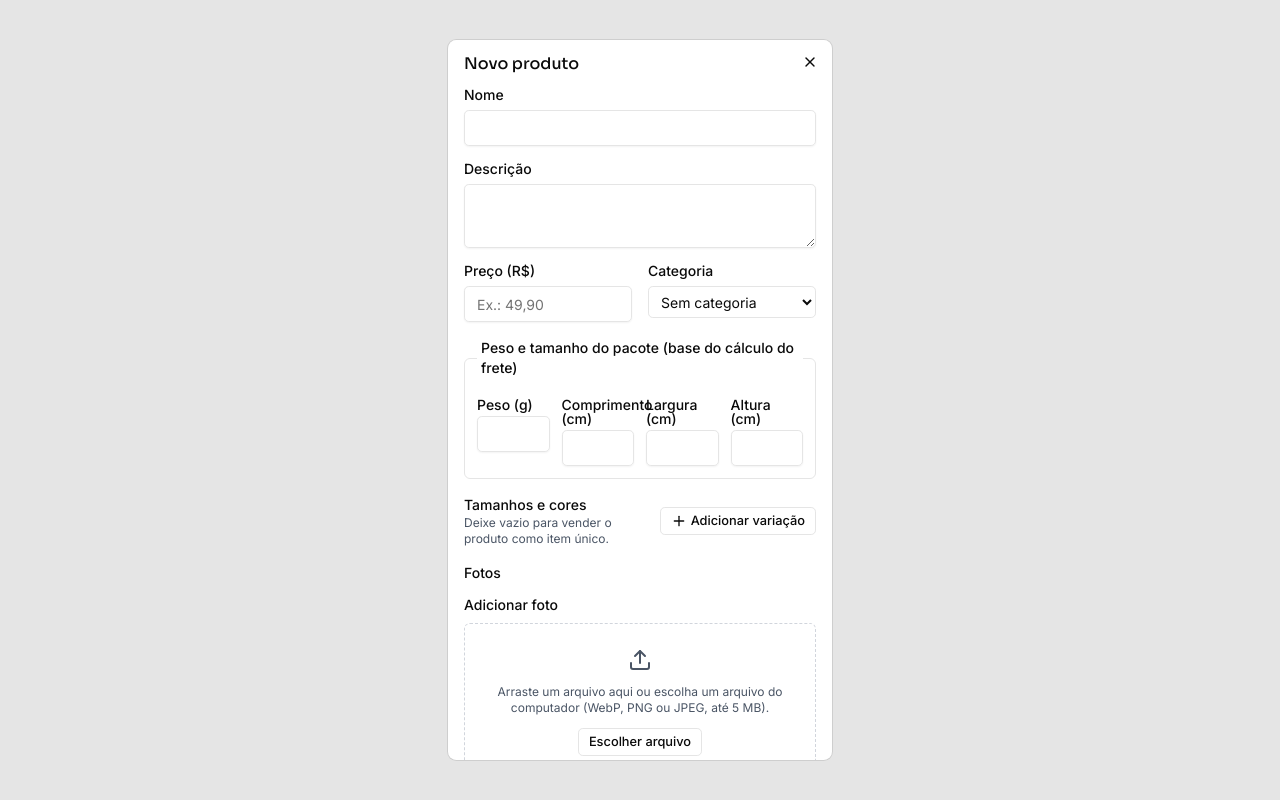
Test: StoreProductDialog › mostra a mensagem de erro do servidor e mantém o diálogo aberto
Type "Camiseta" into the field labelled "Nome" at (640, 128), box [464,110,816,146]
Type "49,90" into the field labelled "Preço (R$)" at (548, 304), box [464,286,632,322]
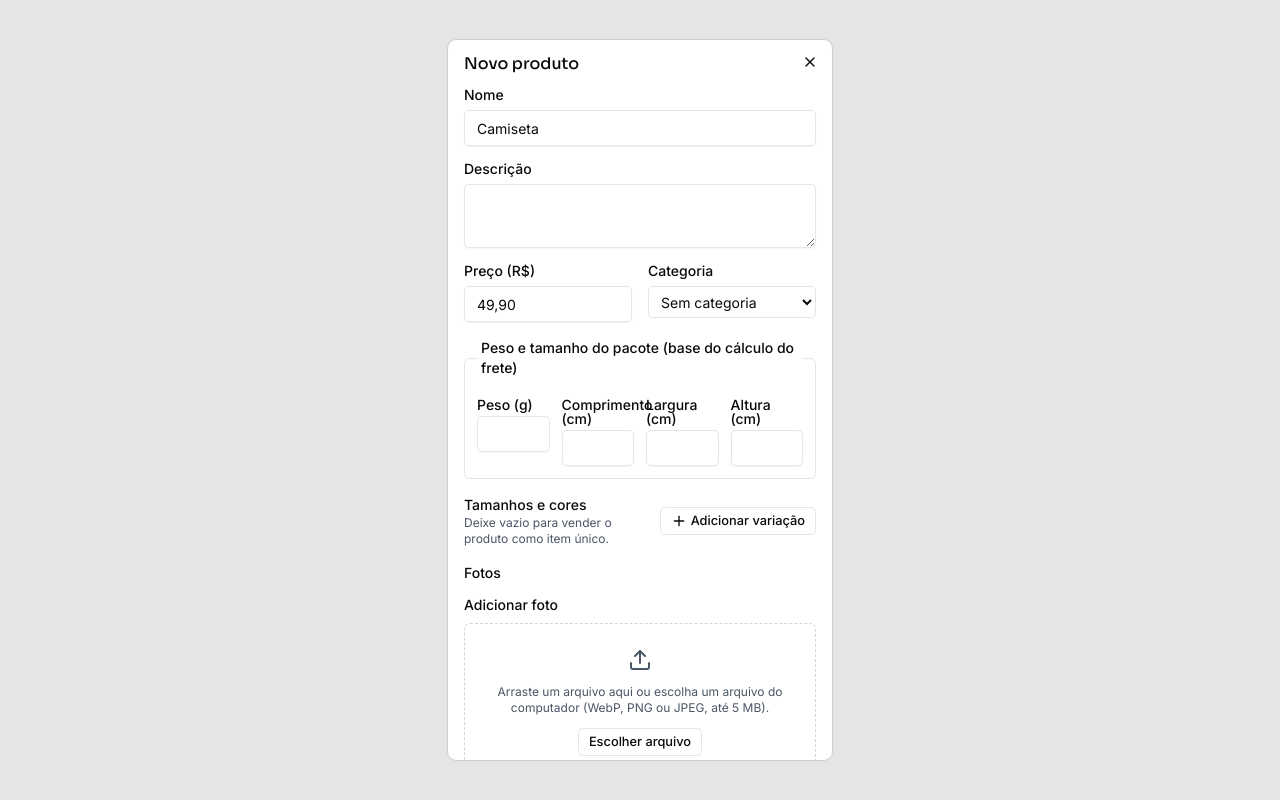
Type "200" into the field labelled "Peso (g)" at (513, 434), box [477,416,550,452]
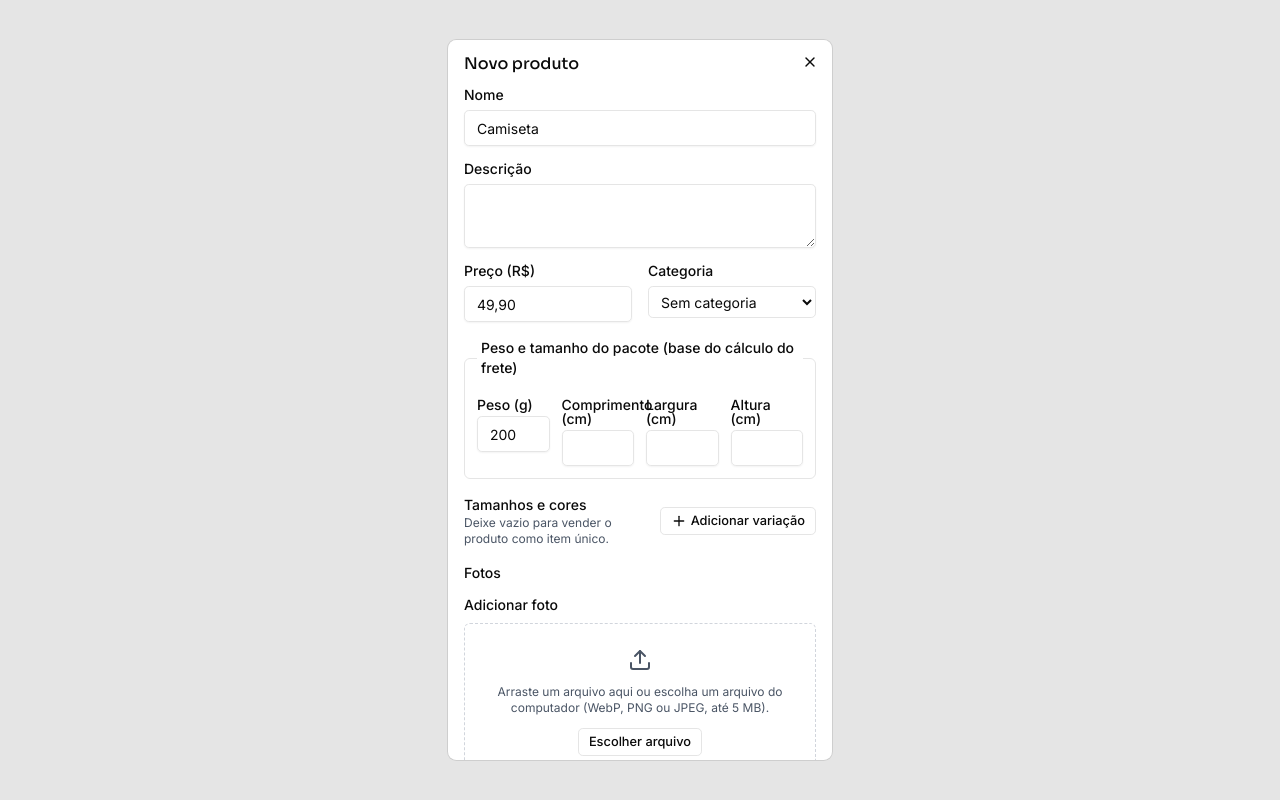
Type "30" into the field labelled "Comprimento (cm)" at (598, 448), box [562,430,634,466]
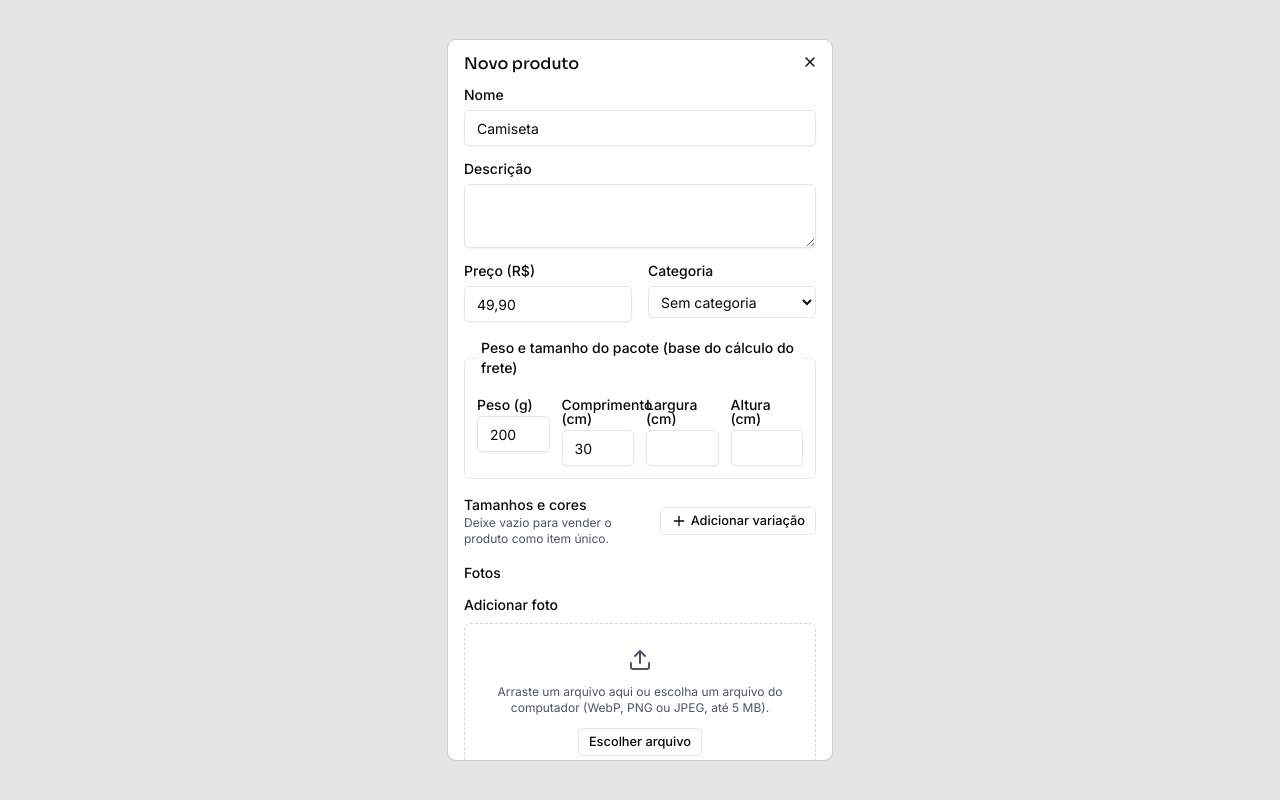
Type "25" into the field labelled "Largura (cm)" at (682, 448), box [646,430,718,466]
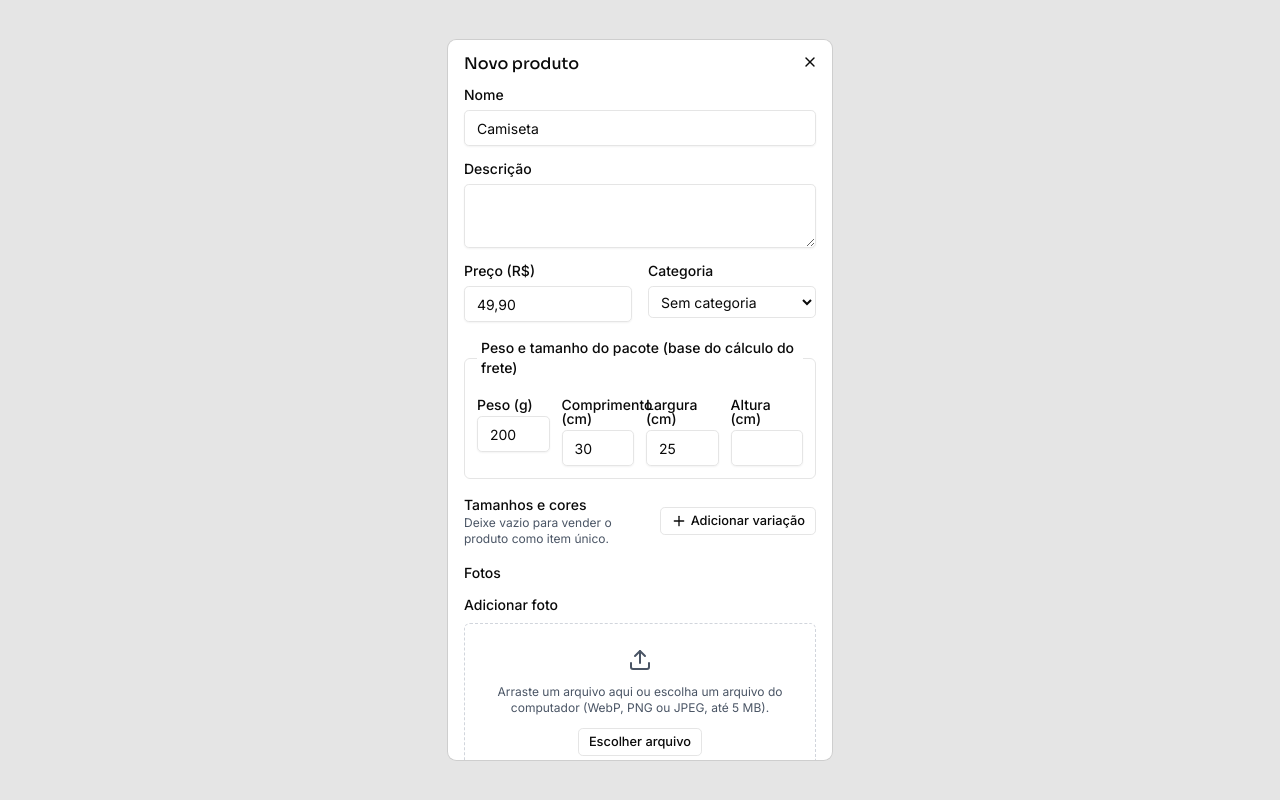
Type "3" into the field labelled "Altura (cm)" at (767, 448), box [730,430,803,466]
(page scrolled)
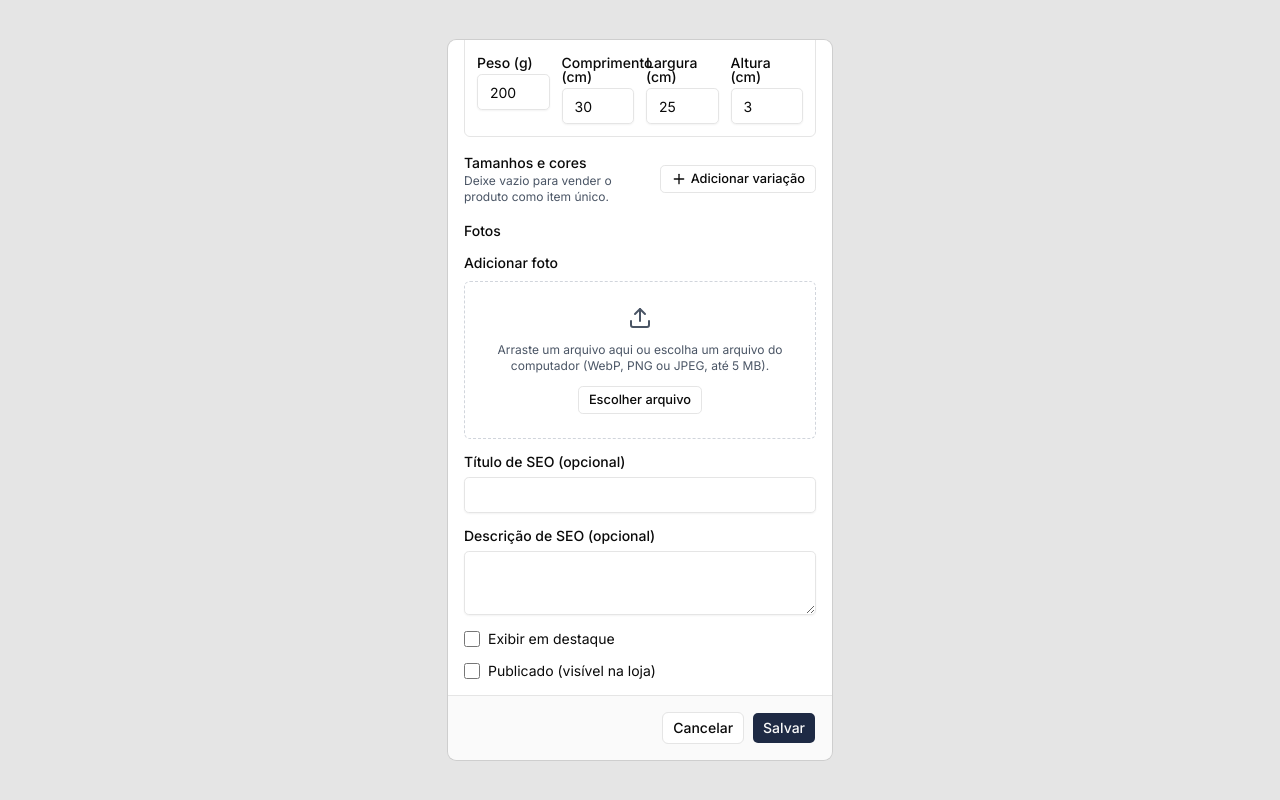
Click the button "Salvar" at (784, 728), box [752,712,816,744]
(page scrolled)
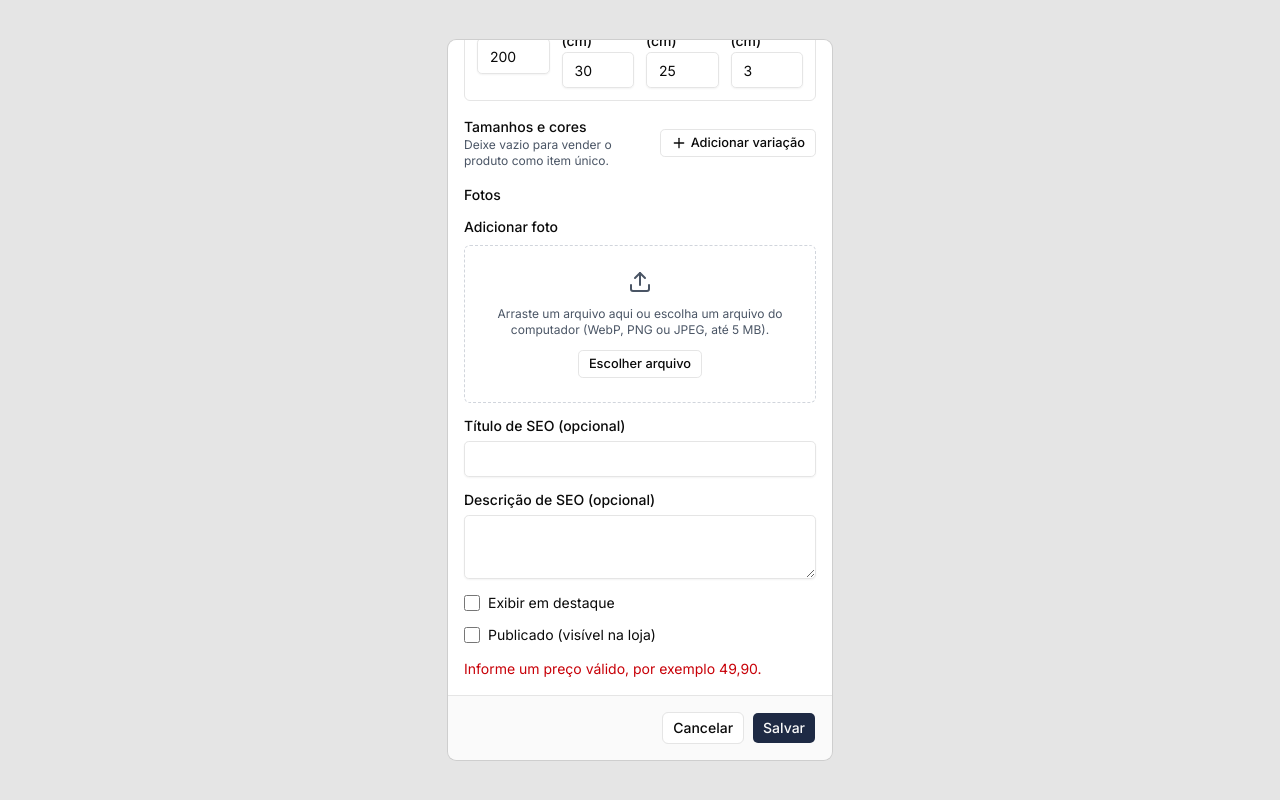
Check: the message reads "Informe um preço válido, por exemplo 49,90.", box [464,660,762,677]
